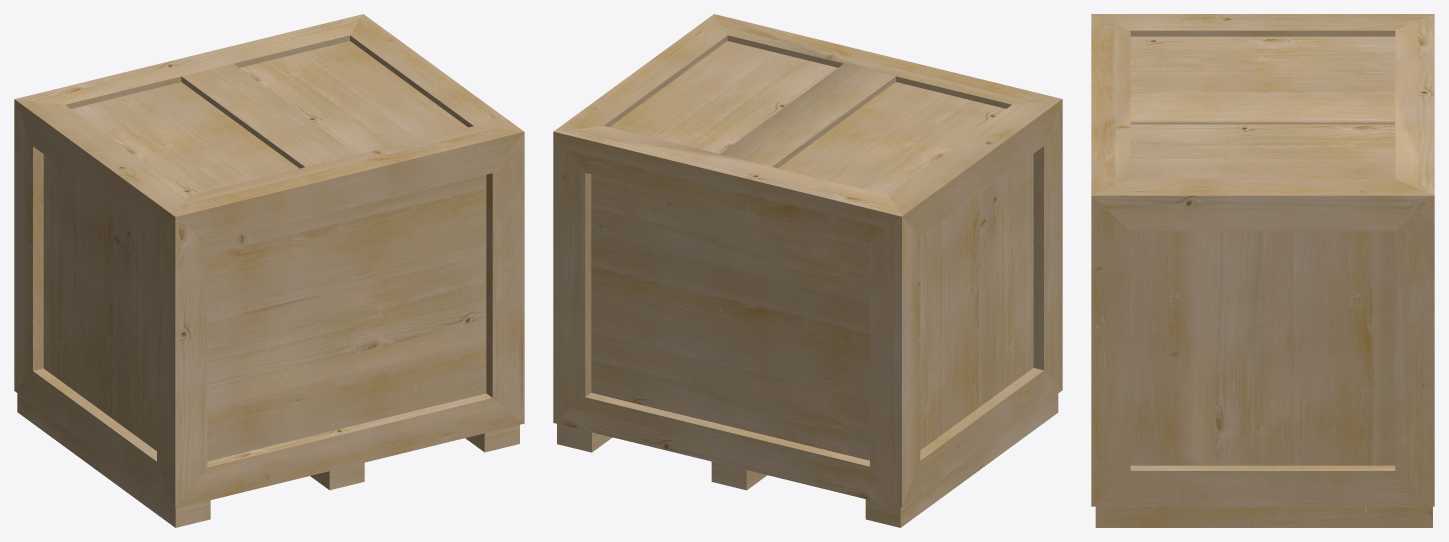
Rendered from crate.glb.
3 views of the same model, side by side, from view 1: azimuth 30°, elevation 25°; view 2: azimuth 150°, elevation 25°; view 3: azimuth 270°, elevation 25° (orthographic). The views are drawn at different scales.
Parts seen in each view (by area): view 1: Crate; view 2: Crate; view 3: Crate.
Boxes of the visible parts, box(x1,y1,x2,y2) form: Crate: box(14, 14, 524, 527); Crate: box(553, 14, 1062, 527); Crate: box(1091, 14, 1434, 527).
Size of the model in its own units: 1.25 by 1.07 by 1.
Materials: 1 (1 with a texture image).
